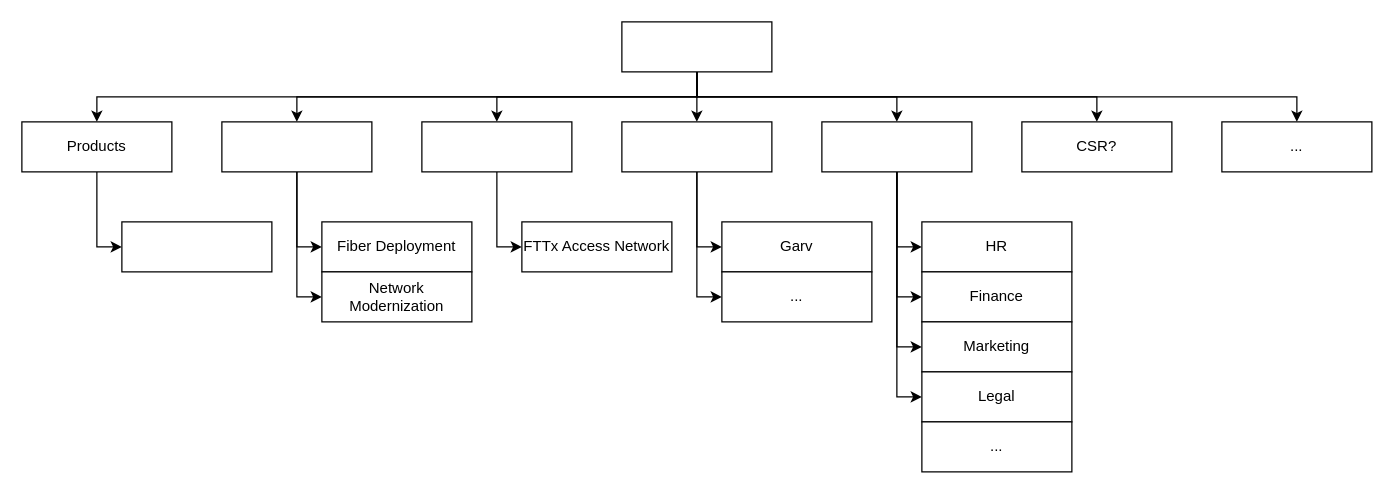
Image size: 1394x494. Some labels were removed from this diagram. Each missing label, with the box of its shape:
Corporate Functions: (821, 121, 972, 172)
Innovation: (621, 121, 772, 172)
Open Connectivity: (121, 221, 272, 272)
Services: (221, 121, 372, 172)
Software: (421, 121, 572, 172)
STL: (621, 21, 772, 72)
